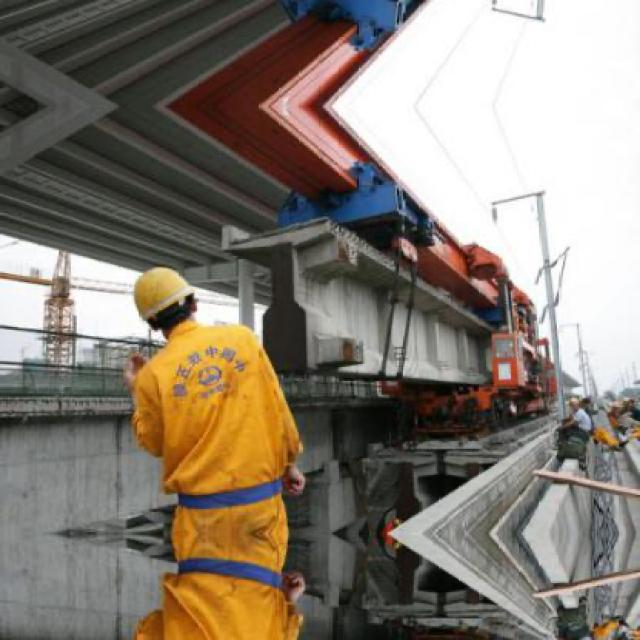helmet: (123, 258, 208, 342)
